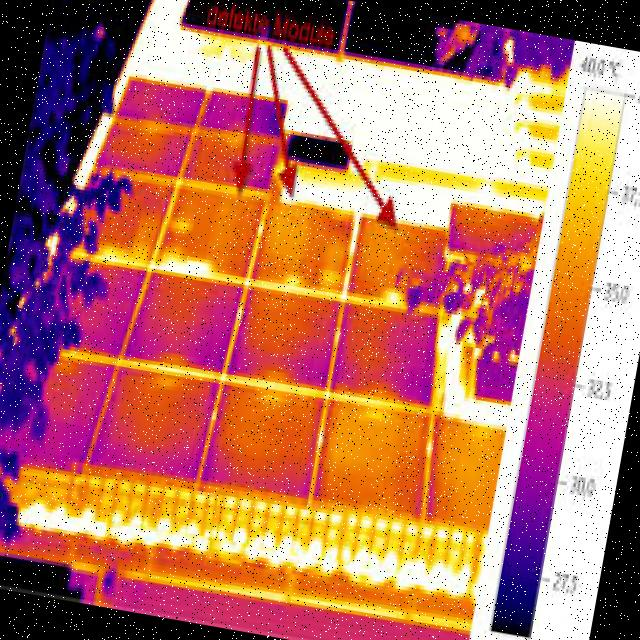Hotspot: (163, 256, 218, 276), (170, 213, 197, 235), (282, 266, 307, 288), (100, 244, 128, 260), (386, 284, 404, 304), (364, 410, 388, 424)
